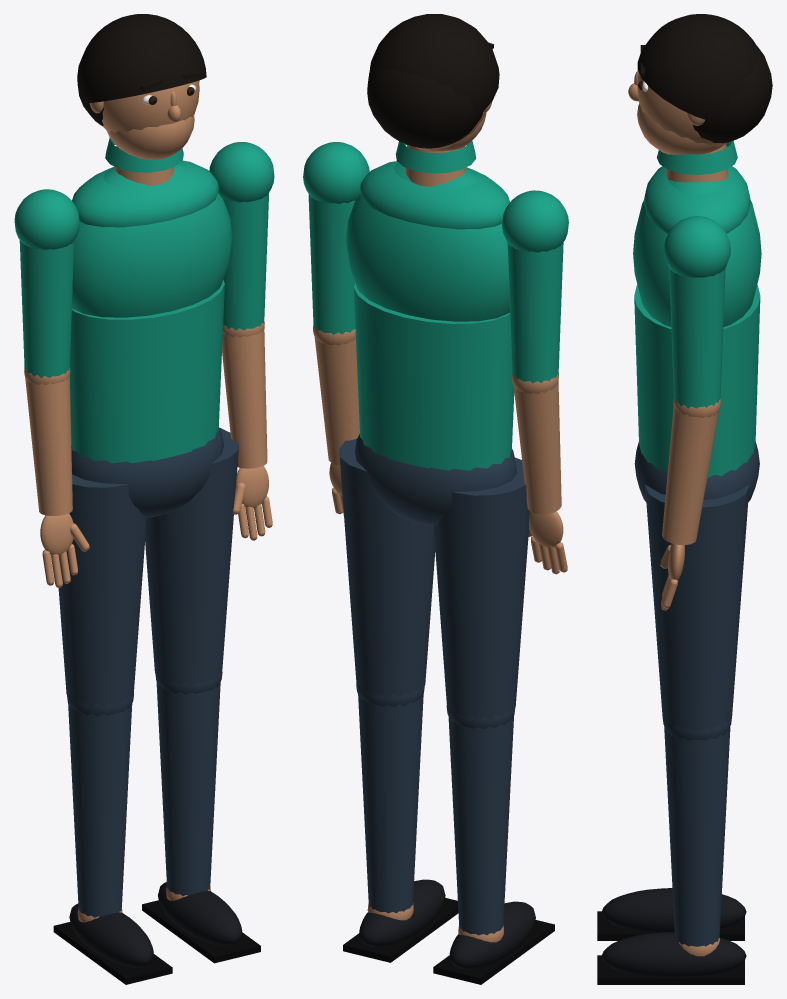
Rendered from villager-shopkeeper.glb.
3 views of the same model, side by side, from view 1: azimuth 30°, elevation 25°; view 2: azimuth 150°, elevation 25°; view 3: azimuth 270°, elevation 25° (orthographic). The views are drawn at different scales.
Visible parts, largest first — view 1: leg (×2), arm (×2), object 1, object 2, object 22, object 3, villager-shopkeeper, object 7, object 8, object 6, object 5; view 2: leg (×2), arm (×2), object 1, object 2, object 22, object 23, object 3, villager-shopkeeper, object 6, object 5; view 3: leg (×2), arm, object 1, object 22, object 2, object 3, object 23, villager-shopkeeper, object 7, object 6, object 8, object 5.
Part boxes in pixels (bbox=[...]): leg (×2): bbox=[53, 427, 260, 984]; arm (×2): bbox=[14, 142, 274, 587]; object 1: bbox=[69, 280, 224, 463]; object 2: bbox=[72, 162, 232, 317]; object 22: bbox=[79, 14, 206, 102]; object 3: bbox=[72, 160, 219, 227]; villager-shopkeeper: bbox=[71, 427, 223, 517]; object 7: bbox=[102, 80, 199, 132]; object 8: bbox=[107, 114, 194, 159]; object 6: bbox=[105, 137, 183, 172]; object 5: bbox=[114, 146, 174, 185]; leg (×2): bbox=[339, 438, 554, 984]; arm (×2): bbox=[303, 142, 568, 574]; object 1: bbox=[353, 283, 514, 470]; object 2: bbox=[346, 163, 509, 321]; object 22: bbox=[369, 14, 499, 116]; object 23: bbox=[367, 67, 482, 148]; object 3: bbox=[359, 161, 509, 229]; villager-shopkeeper: bbox=[354, 434, 517, 526]; object 6: bbox=[395, 141, 476, 173]; object 5: bbox=[405, 144, 466, 186]; leg (×2): bbox=[597, 484, 749, 984]; arm: bbox=[660, 216, 730, 610]; object 1: bbox=[634, 285, 760, 477]; object 22: bbox=[637, 14, 758, 123]; object 2: bbox=[633, 179, 761, 326]; object 3: bbox=[643, 166, 750, 233]; object 23: bbox=[692, 46, 772, 143]; villager-shopkeeper: bbox=[634, 442, 759, 501]; object 7: bbox=[637, 72, 727, 146]; object 6: bbox=[656, 140, 737, 174]; object 8: bbox=[637, 103, 724, 154]; object 5: bbox=[666, 144, 728, 182].
Size of the model in its own units: 0.5939 by 2.06 by 0.3509.
